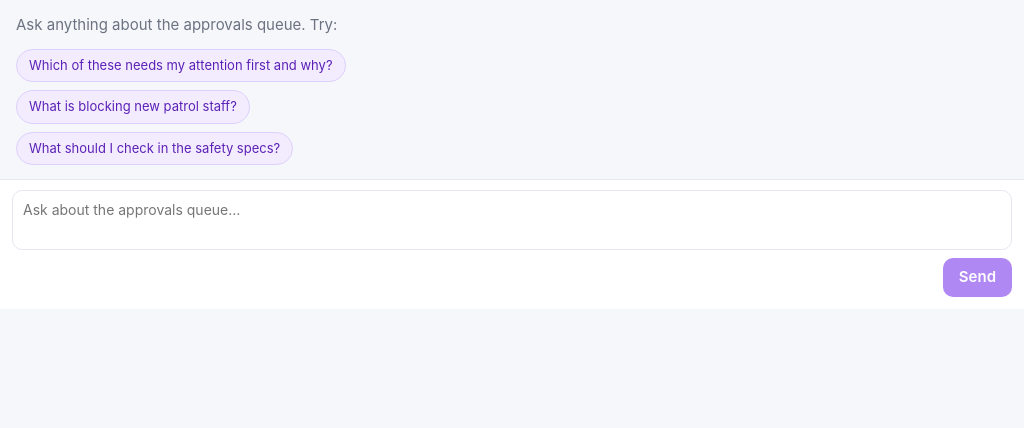
Test: TalkView › does not send failed exchanges back as history
In the text box named "message": (512, 220) [12,190,1012,250], type "First"
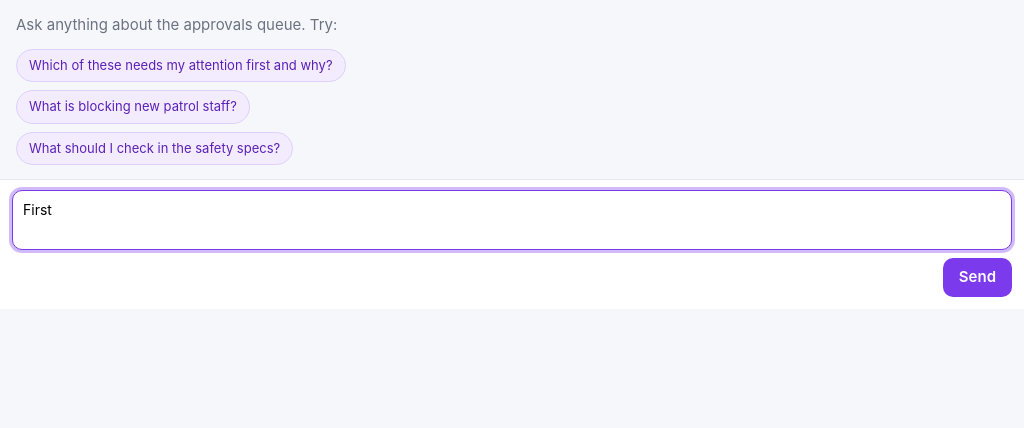
Press Enter
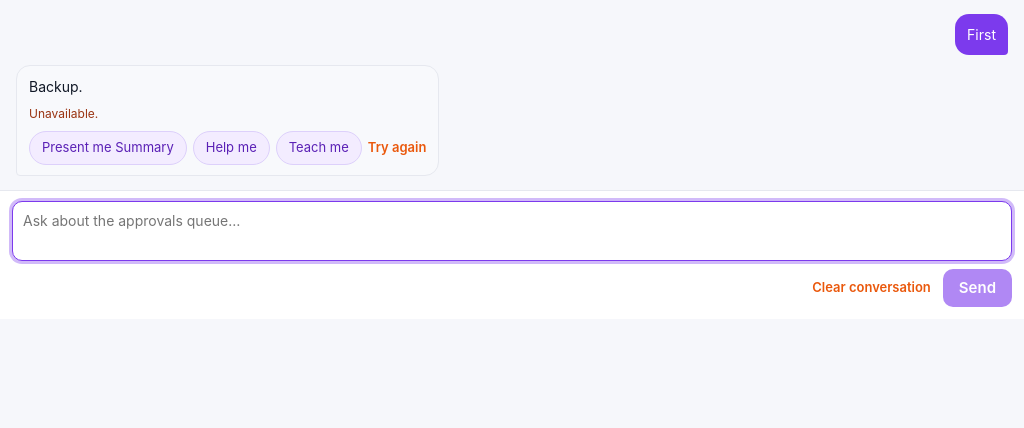
Check: the text "Backup." is shown, box [29,78,83,95]
In the text box named "message": (512, 230) [12,200,1012,260], type "Second"
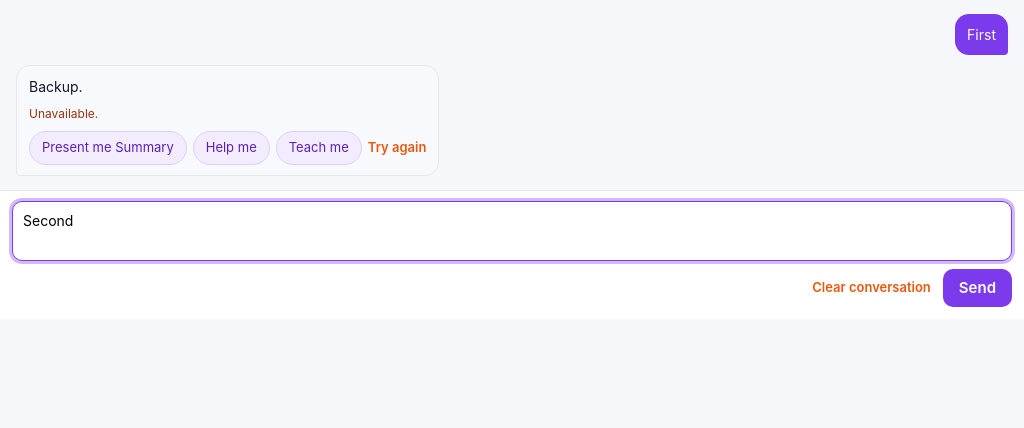
Press Enter
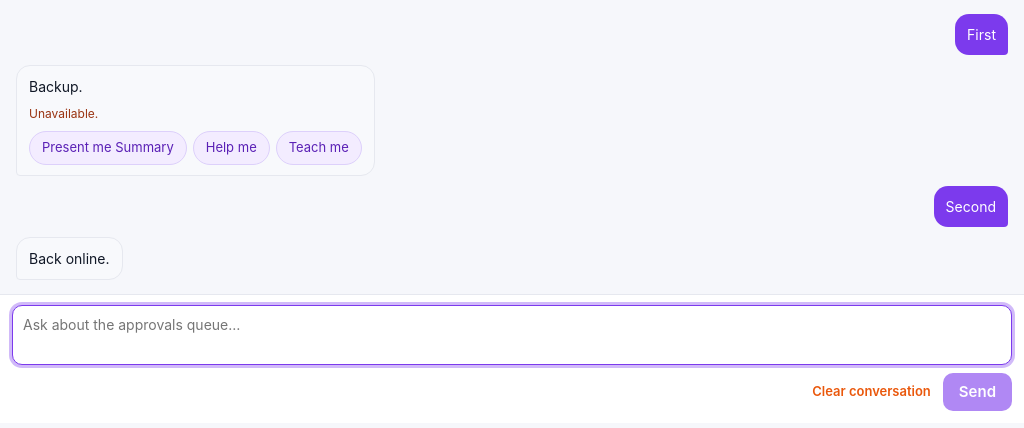
Check: the text "Back online." is shown, box [29,248,110,268]
